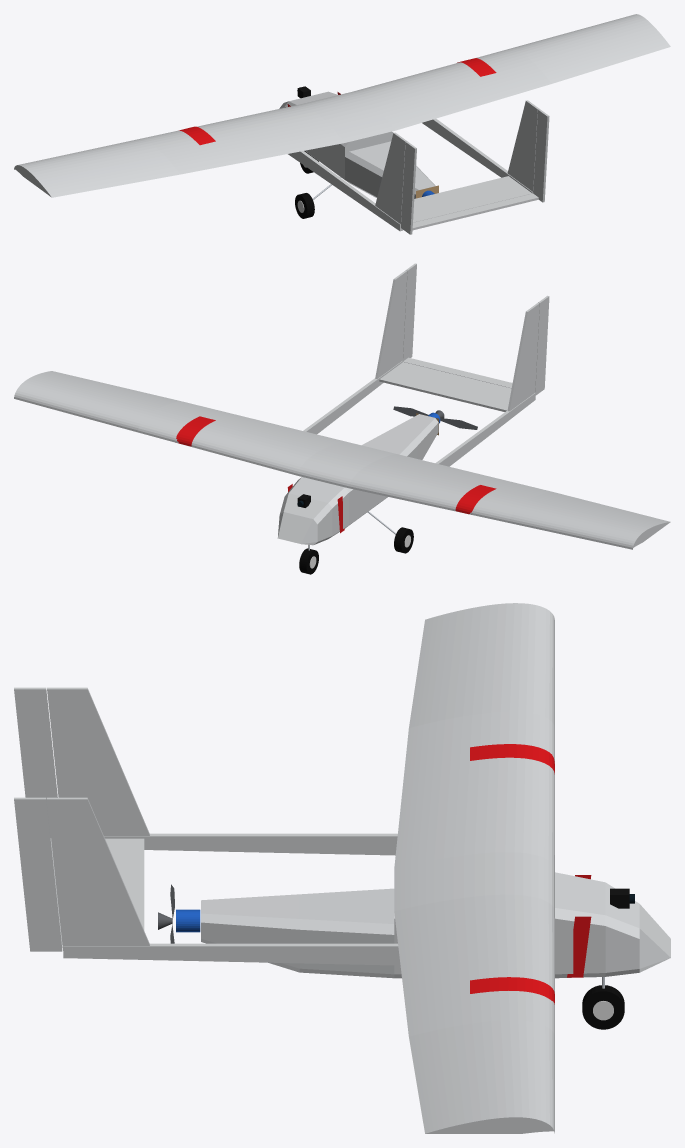
The model's file is Garuda_Vedang_1500mm.obj.
The picture shows the model from 3 angles, top to bottom: view 1: azimuth 30°, elevation 25°; view 2: azimuth 150°, elevation 25°; view 3: azimuth 270°, elevation 25°; orthographic projection. The views are drawn at different scales.
Parts seen in each view (by area): view 1: Wing_Continuous_1500mm, Fuselage_Main_Body, Horizontal_Stabilizer_S1, Vertical_Fin_Left_S2, Vertical_Fin_Right_S2, Tail_Boom_Left_F9, Tail_Boom_Right_F9, Rudder_Left_S4, Rudder_Right_S4, Elevator_S3, Main_Wheel_Left, Aero_Stripe_Right (+1 smaller); view 2: Wing_Continuous_1500mm, Fuselage_Main_Body, Horizontal_Stabilizer_S1, Vertical_Fin_Left_S2, Vertical_Fin_Right_S2, Tail_Boom_Left_F9, Tail_Boom_Right_F9, Rudder_Left_S4, Rudder_Right_S4, Elevator_S3, Aero_Stripe_Left, Aero_Stripe_Right; view 3: Wing_Continuous_1500mm, Fuselage_Main_Body, Vertical_Fin_Right_S2, Vertical_Fin_Left_S2, Tail_Boom_Right_F9, Tail_Boom_Left_F9, Rudder_Right_S4, Rudder_Left_S4, Horizontal_Stabilizer_S1, Nose_Wheel, Aero_Stripe_Left, Aero_Stripe_Right (+1 smaller).
Boxes of the visible parts, <box> form: Wing_Continuous_1500mm: <box>14,14,670,197</box>; Fuselage_Main_Body: <box>279,91,435,198</box>; Horizontal_Stabilizer_S1: <box>413,176,532,222</box>; Vertical_Fin_Left_S2: <box>375,132,407,227</box>; Vertical_Fin_Right_S2: <box>507,100,539,193</box>; Tail_Boom_Left_F9: <box>288,151,403,231</box>; Tail_Boom_Right_F9: <box>422,118,532,193</box>; Rudder_Left_S4: <box>401,141,416,234</box>; Rudder_Right_S4: <box>533,109,549,202</box>; Elevator_S3: <box>412,193,538,230</box>; Main_Wheel_Left: <box>295,193,314,218</box>; Aero_Stripe_Right: <box>457,58,496,76</box>; Wing_Continuous_1500mm: <box>14,371,670,549</box>; Fuselage_Main_Body: <box>277,414,438,545</box>; Horizontal_Stabilizer_S1: <box>379,362,511,411</box>; Vertical_Fin_Left_S2: <box>507,303,539,411</box>; Vertical_Fin_Right_S2: <box>375,270,407,378</box>; Tail_Boom_Left_F9: <box>435,393,535,466</box>; Tail_Boom_Right_F9: <box>303,360,403,434</box>; Rudder_Left_S4: <box>535,295,549,395</box>; Rudder_Right_S4: <box>403,263,416,360</box>; Elevator_S3: <box>403,357,512,388</box>; Aero_Stripe_Left: <box>455,485,496,514</box>; Aero_Stripe_Right: <box>176,416,215,446</box>; Wing_Continuous_1500mm: <box>394,603,554,1133</box>; Fuselage_Main_Body: <box>201,872,670,978</box>; Vertical_Fin_Right_S2: <box>47,797,149,950</box>; Vertical_Fin_Left_S2: <box>47,687,149,835</box>; Tail_Boom_Right_F9: <box>63,943,400,965</box>; Tail_Boom_Left_F9: <box>104,833,397,855</box>; Rudder_Right_S4: <box>14,797,62,951</box>; Rudder_Left_S4: <box>14,687,57,837</box>; Horizontal_Stabilizer_S1: <box>105,838,144,930</box>; Nose_Wheel: <box>582,985,624,1029</box>; Aero_Stripe_Left: <box>470,744,554,774</box>; Aero_Stripe_Right: <box>470,977,554,1004</box>.
Size of what is drawn, in the model's own units: 1.5 by 0.3851 by 0.81.
